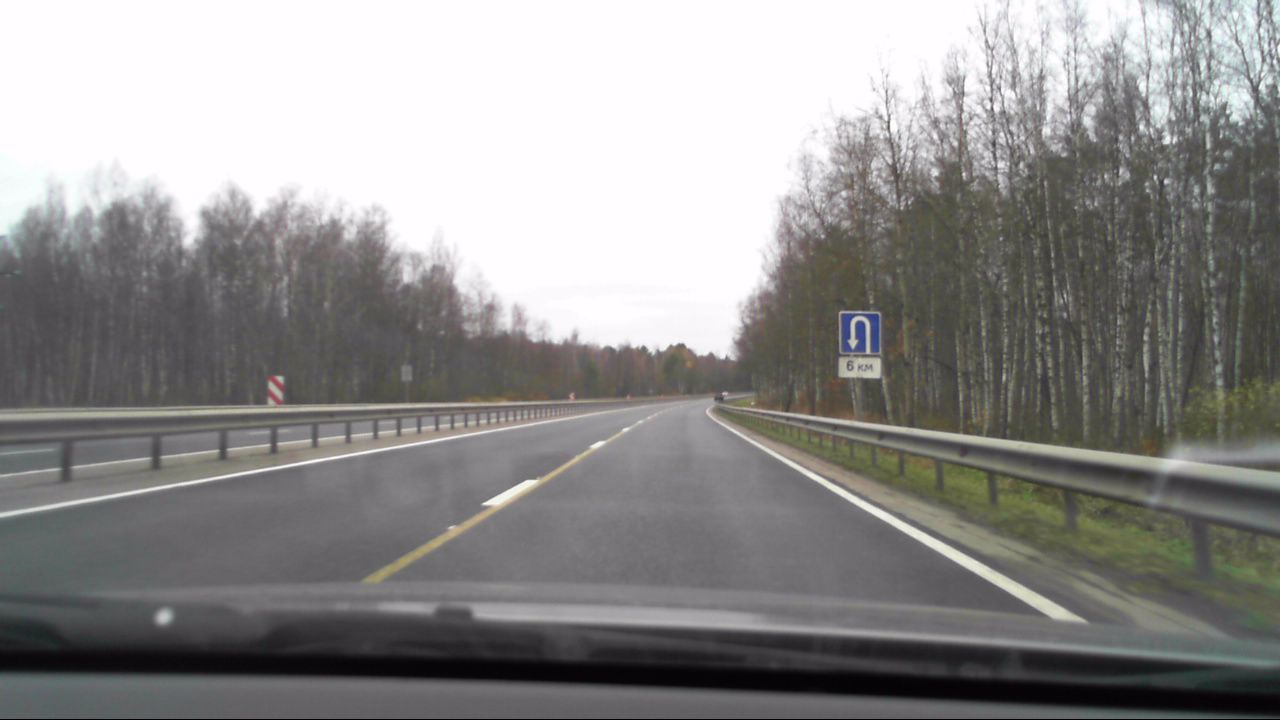U-turn: (839, 311, 881, 355)
